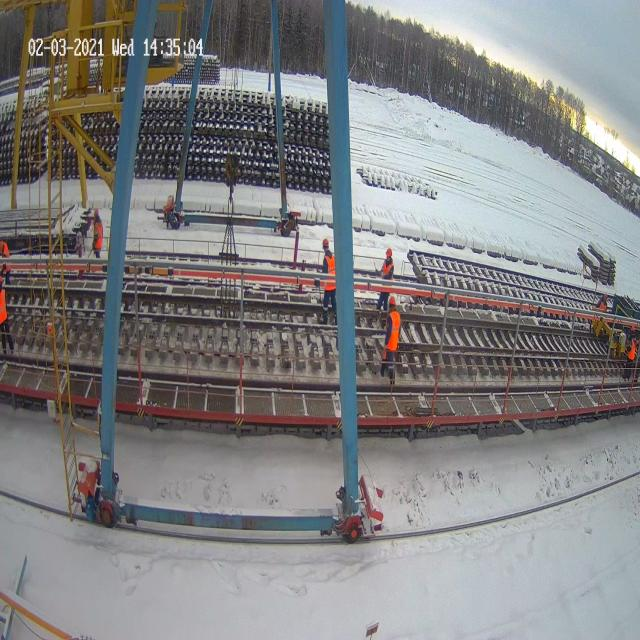Helmet: (388, 296, 396, 305), (322, 238, 329, 248), (386, 248, 392, 257)
Person: (380, 296, 400, 384), (321, 238, 337, 325), (376, 248, 394, 311), (0, 276, 14, 355), (92, 210, 103, 258), (626, 331, 640, 368), (0, 240, 11, 284), (599, 294, 611, 316)
